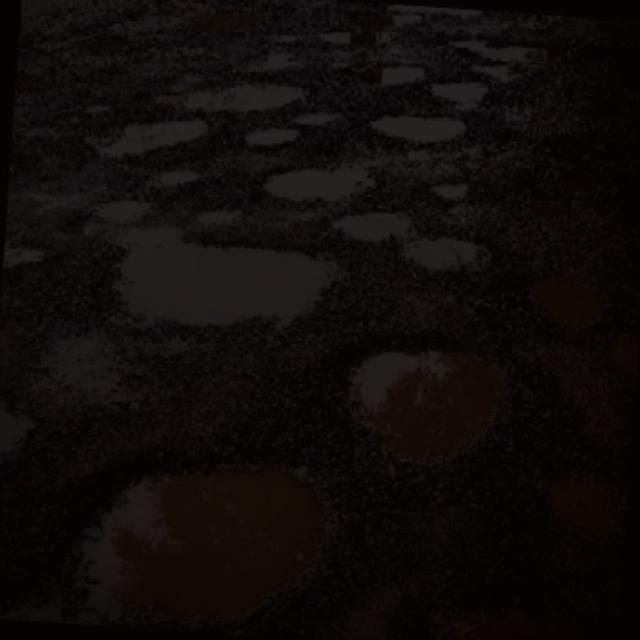Pothole: (9, 443, 346, 640), (62, 219, 334, 352), (352, 508, 568, 640), (331, 328, 508, 478), (41, 315, 153, 408), (252, 154, 395, 210), (84, 106, 208, 168), (544, 459, 640, 538), (161, 75, 317, 116), (516, 259, 608, 324), (389, 232, 505, 274), (366, 103, 470, 142), (434, 30, 556, 60), (379, 0, 495, 30), (322, 204, 417, 240), (118, 155, 210, 191), (0, 377, 43, 452), (358, 56, 434, 98), (602, 320, 640, 381), (436, 72, 489, 114), (234, 122, 303, 154), (466, 52, 527, 88), (304, 20, 362, 55), (0, 226, 45, 270), (183, 192, 234, 230), (426, 172, 476, 208), (97, 195, 152, 225), (294, 97, 347, 127)
